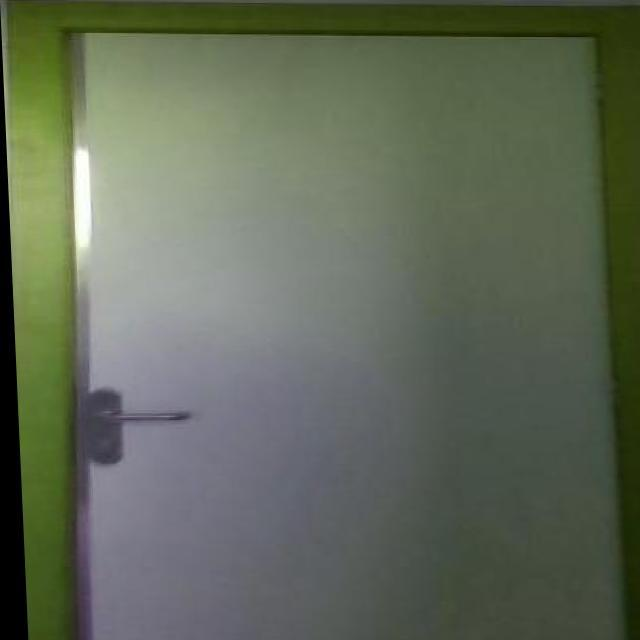door_handle: (88, 408, 193, 426)
